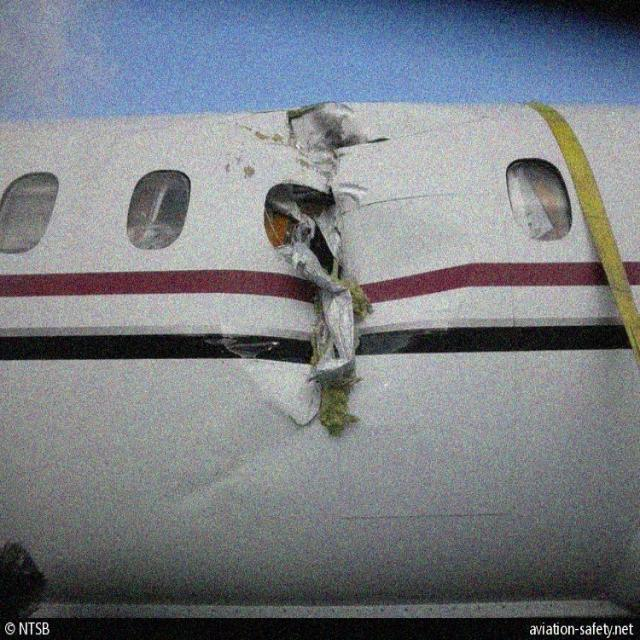crack: (253, 105, 413, 450)
dent: (160, 416, 314, 515), (376, 207, 470, 359)
